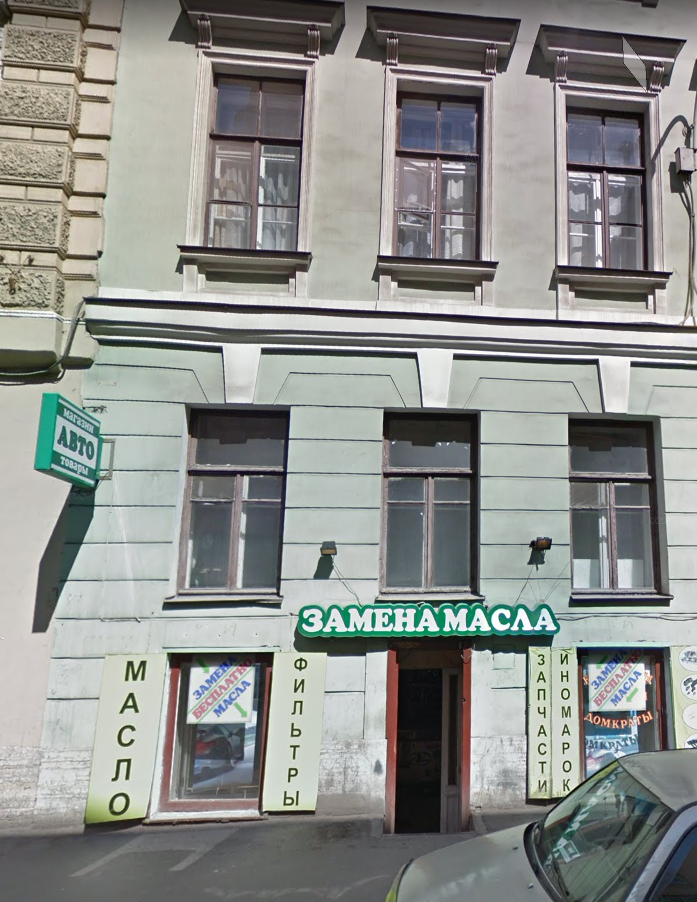cantilever: (25, 376, 134, 499)
signboard: (297, 602, 566, 642)
window: (177, 416, 291, 593), (206, 69, 307, 259), (568, 410, 663, 597), (162, 656, 268, 812), (380, 416, 475, 590), (396, 96, 479, 264), (563, 105, 646, 263)
